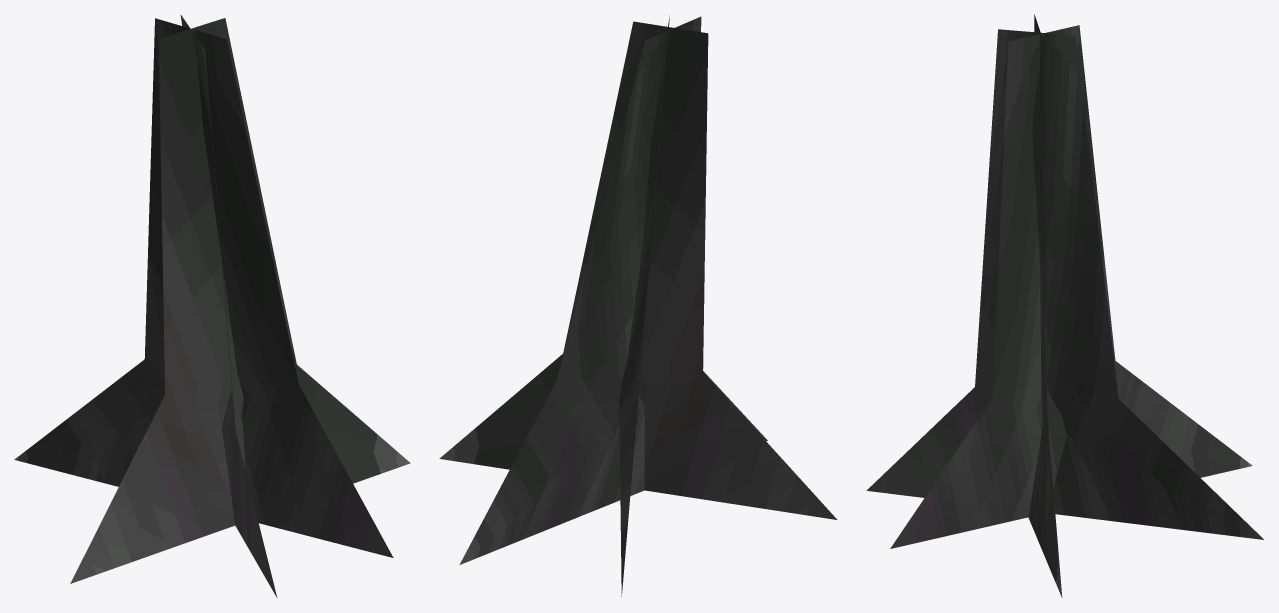
Rendered from INST_HTOWN_TREEC_LOD3.fbx.
3 views of the same model, side by side, from view 1: azimuth 30°, elevation 25°; view 2: azimuth 150°, elevation 25°; view 3: azimuth 270°, elevation 25° (orthographic). The views are drawn at different scales.
Visible parts, largest first — view 1: INST_HTOWN_TREEC_LOD3; view 2: INST_HTOWN_TREEC_LOD3; view 3: INST_HTOWN_TREEC_LOD3.
Boxes of the visible parts, bbox=[...] form: INST_HTOWN_TREEC_LOD3: bbox=[14, 15, 410, 597]; INST_HTOWN_TREEC_LOD3: bbox=[439, 15, 837, 596]; INST_HTOWN_TREEC_LOD3: bbox=[866, 14, 1263, 597].
Size of the model in its own units: 38242 by 48202 by 37509.
1 material, 1 textured.
